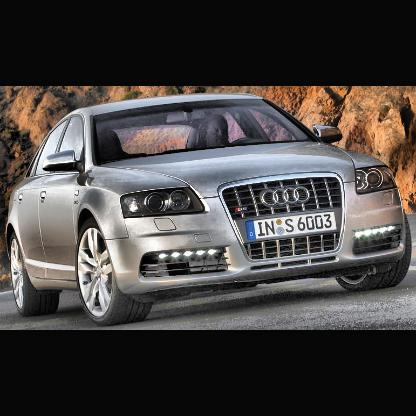Audi S6 Sedan 2011: (5, 91, 415, 328)
